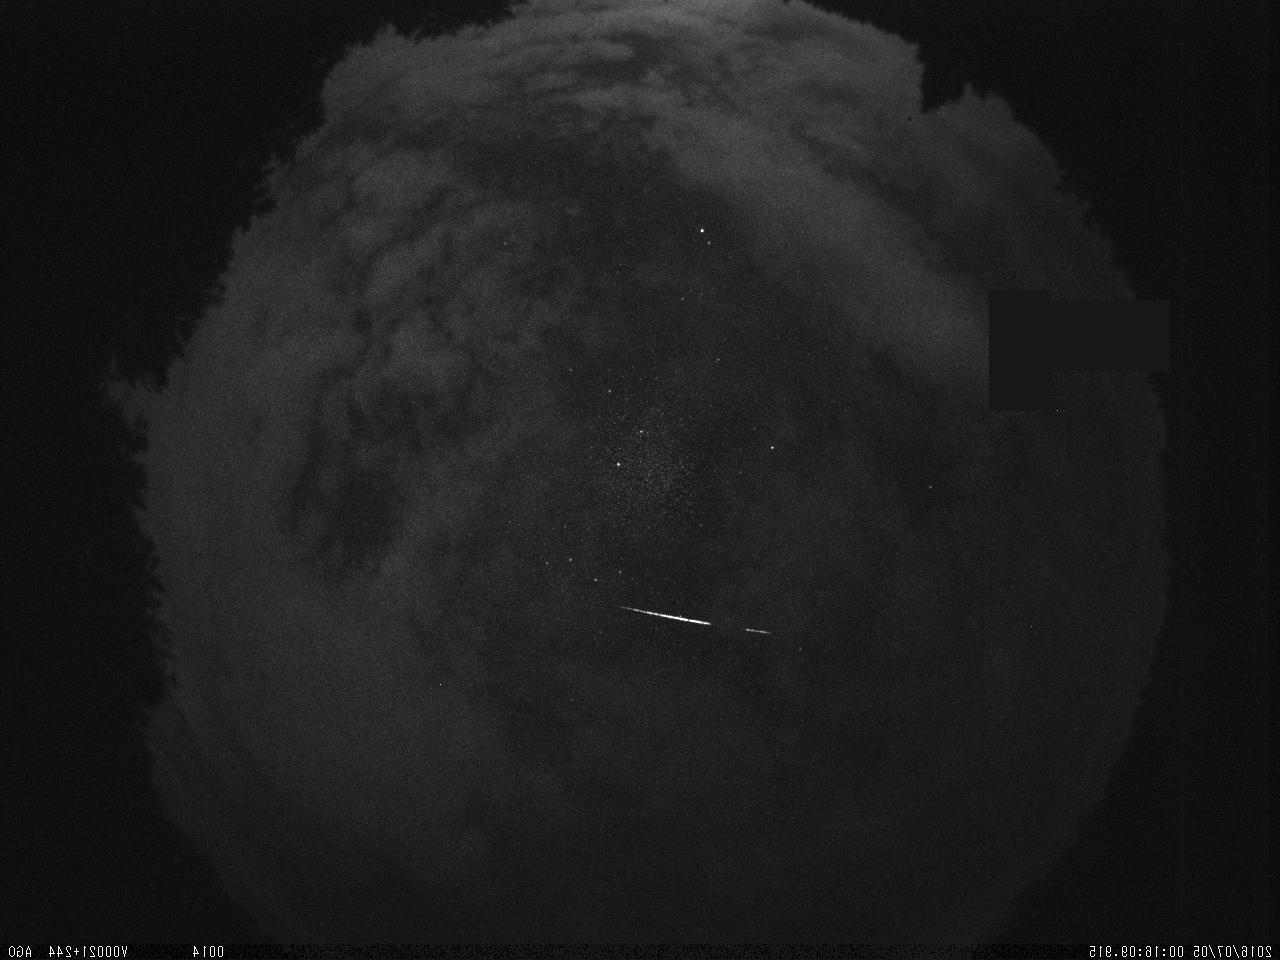meteor: (604, 601, 728, 635), (739, 616, 791, 647)
